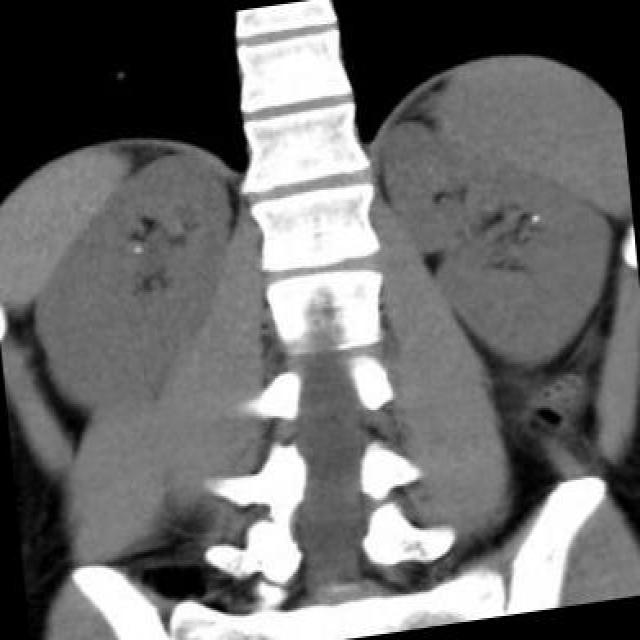Tas_Var: (531, 210, 541, 226), (132, 243, 142, 257)
